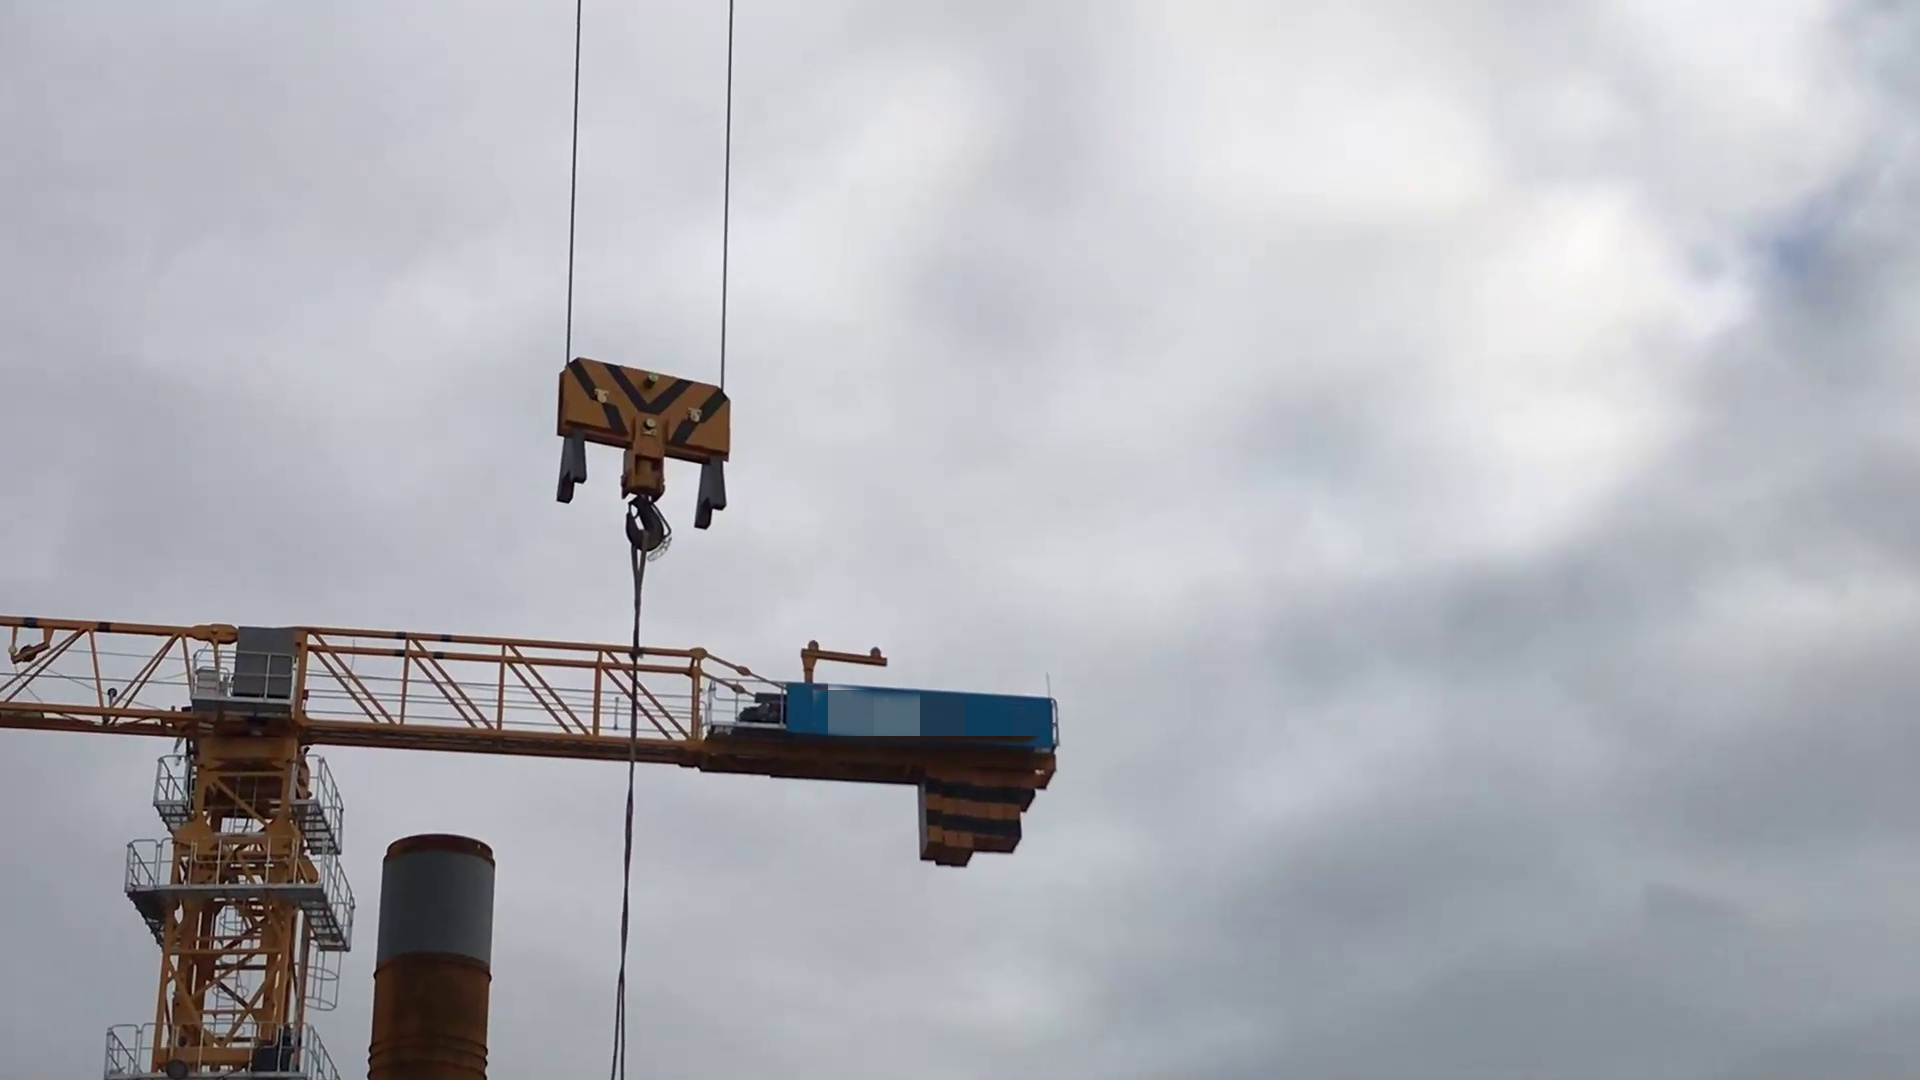hook: (543, 348, 746, 568)
